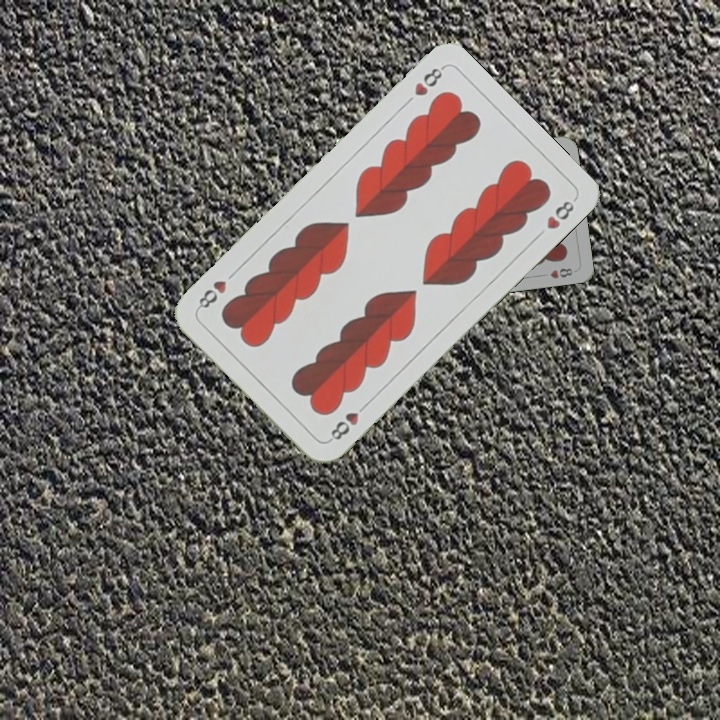H8: (324, 398, 371, 444), (410, 62, 446, 99)
